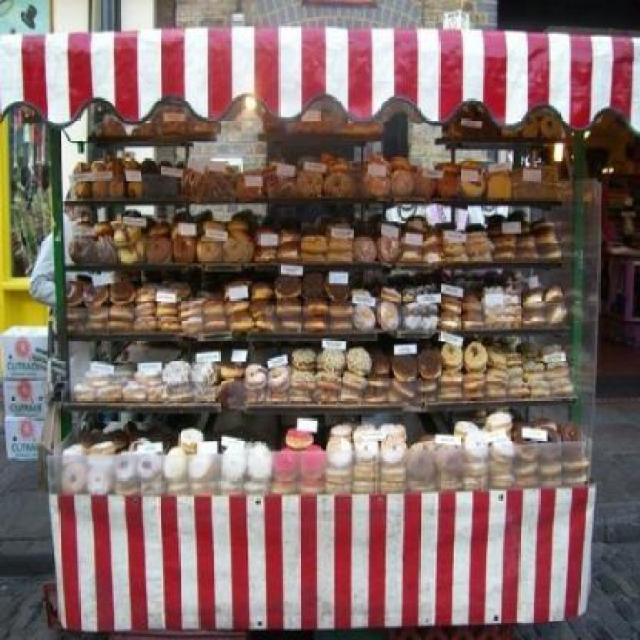Donuts: (50, 143, 595, 497)
